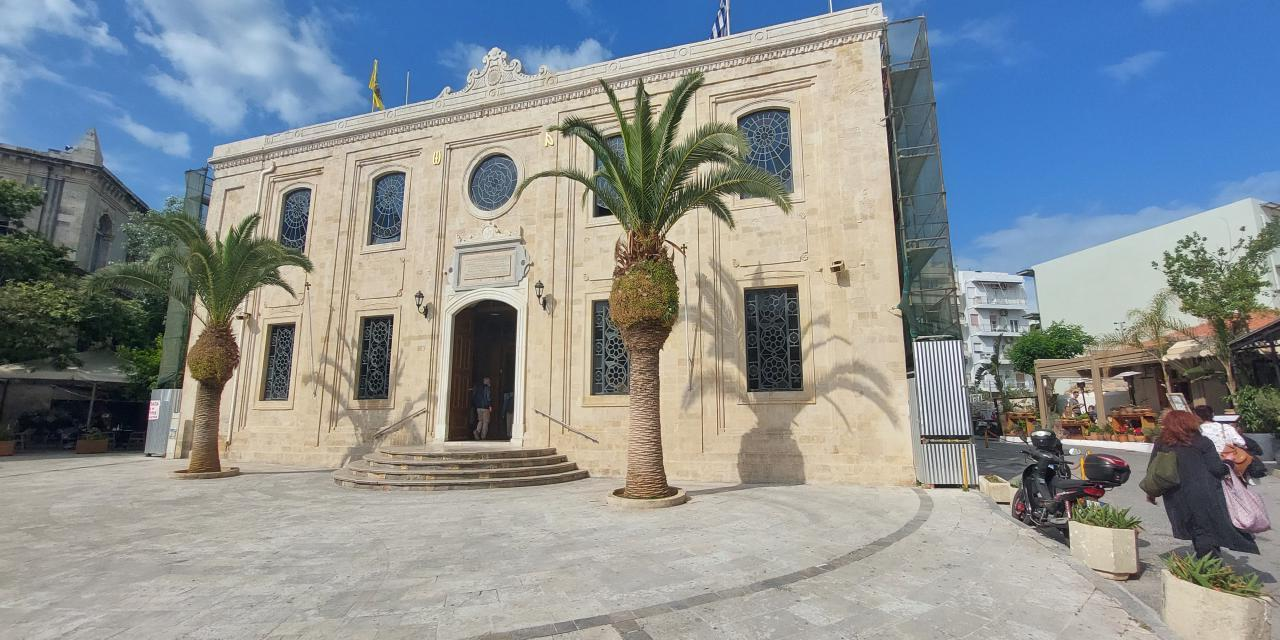Agios Titos: (184, 11, 918, 493)
